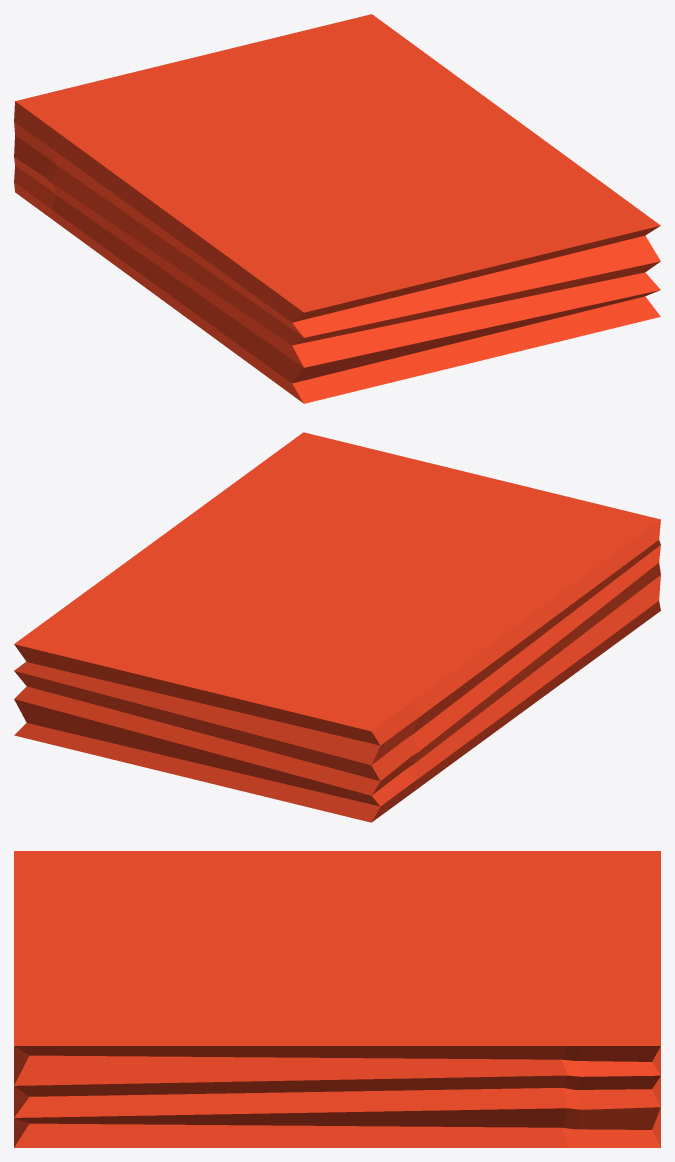
Rendered from SM_Newspaper_B_Sorted_City.fbx.
3 views of the same model, one above another, from view 1: azimuth 30°, elevation 25°; view 2: azimuth 150°, elevation 25°; view 3: azimuth 270°, elevation 25° (orthographic). The views are drawn at different scales.
Visible parts, largest first — view 1: SM_Newspaper_B_Sorted_City; view 2: SM_Newspaper_B_Sorted_City; view 3: SM_Newspaper_B_Sorted_City.
Boxes of the visible parts, bbox=[...] form: SM_Newspaper_B_Sorted_City: bbox=[14, 14, 660, 403]; SM_Newspaper_B_Sorted_City: bbox=[14, 432, 660, 822]; SM_Newspaper_B_Sorted_City: bbox=[14, 851, 660, 1147].
Bounding box in the file's own units: 0.2796 × 0.0673 × 0.3867.
